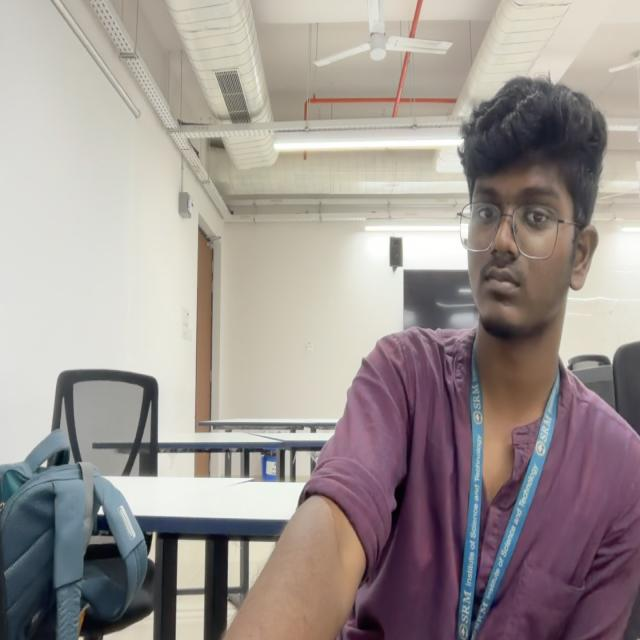ravindra: (456, 74, 602, 343)
